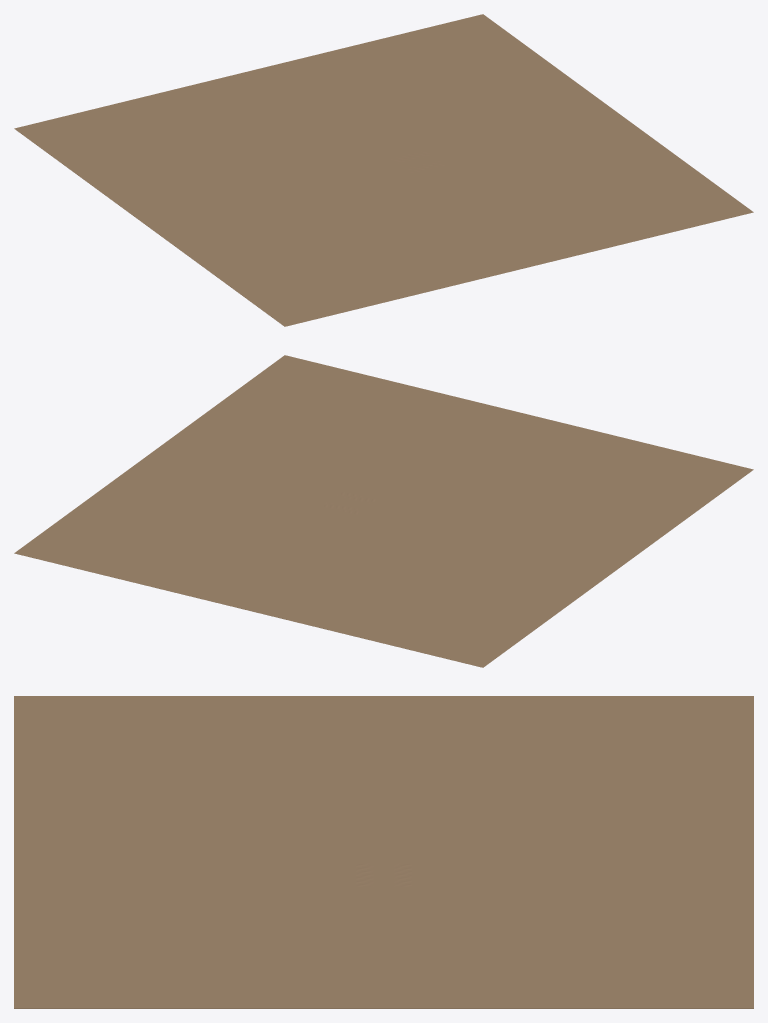
The model's file is SM_DK_01_Desert_terrain_and_access_roads_sand.fbx.
The picture shows the model from 3 angles, top to bottom: view 1: azimuth 30°, elevation 25°; view 2: azimuth 150°, elevation 25°; view 3: azimuth 270°, elevation 25°; orthographic projection. The views are drawn at different scales.
Parts seen in each view (by area): view 1: 01 Desert terrain and access roads | sand; view 2: 01 Desert terrain and access roads | sand; view 3: 01 Desert terrain and access roads | sand.
Boxes of the visible parts, x1,y1,x2,y2 form: 01 Desert terrain and access roads | sand: (14,14,753,326); 01 Desert terrain and access roads | sand: (14,355,753,667); 01 Desert terrain and access roads | sand: (14,696,753,1008).
Bounding box in the file's own units: 1200000 × 1200000 × 272.
